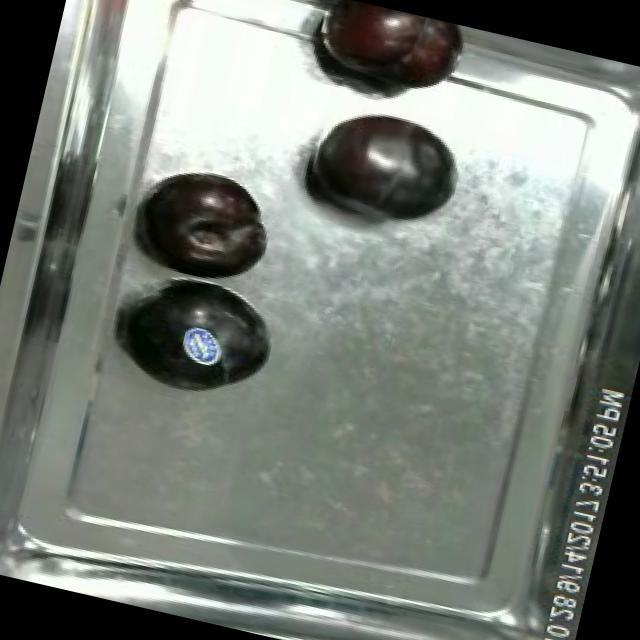Fruit: (290, 90, 472, 242), (113, 262, 290, 416), (130, 154, 288, 294), (294, 0, 474, 105)
